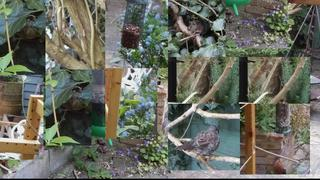dunnock: (173, 124, 220, 160)
mouse: (187, 20, 206, 37)
